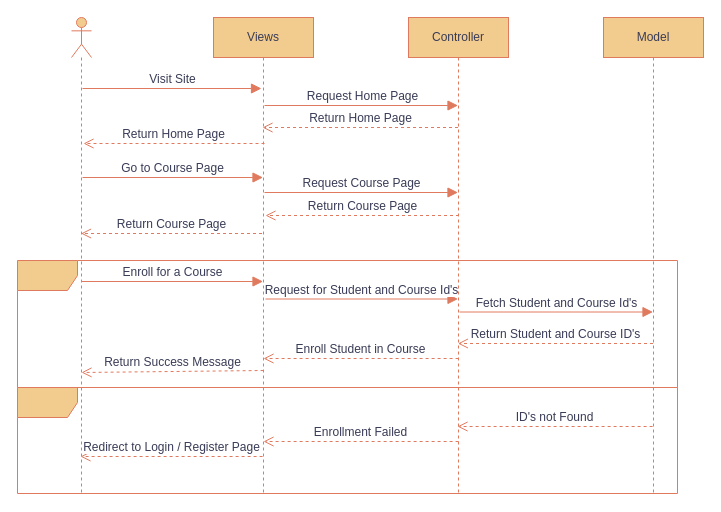
Image size: 721x512. Some labels were removed from this diagram. The centre of each missing label's shape, as x and y in pixels:
Else: point 347,440
If Student Exists: point 347,324
